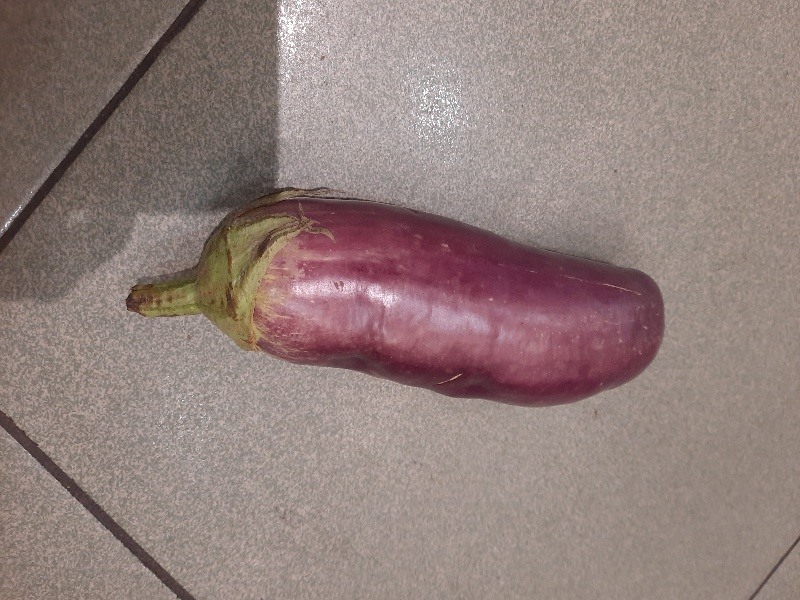vege: (127, 183, 678, 418)
